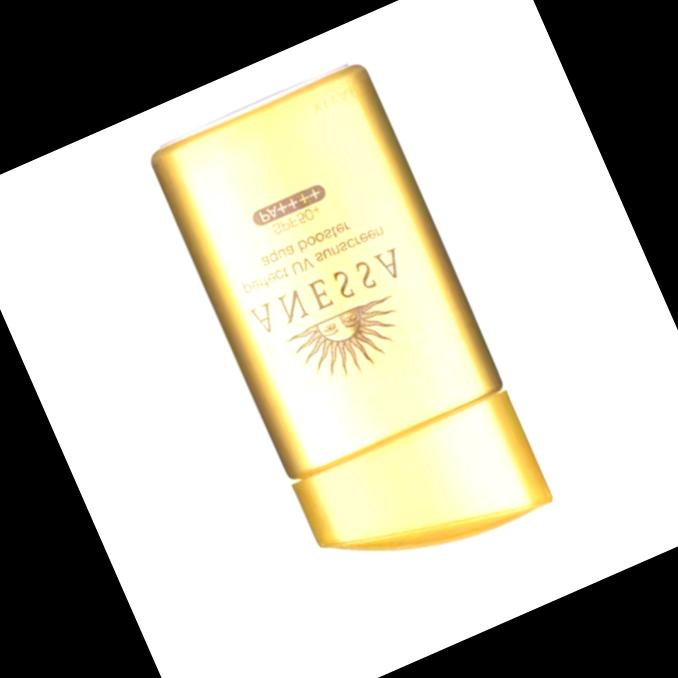cosmetic: (143, 62, 558, 599)
